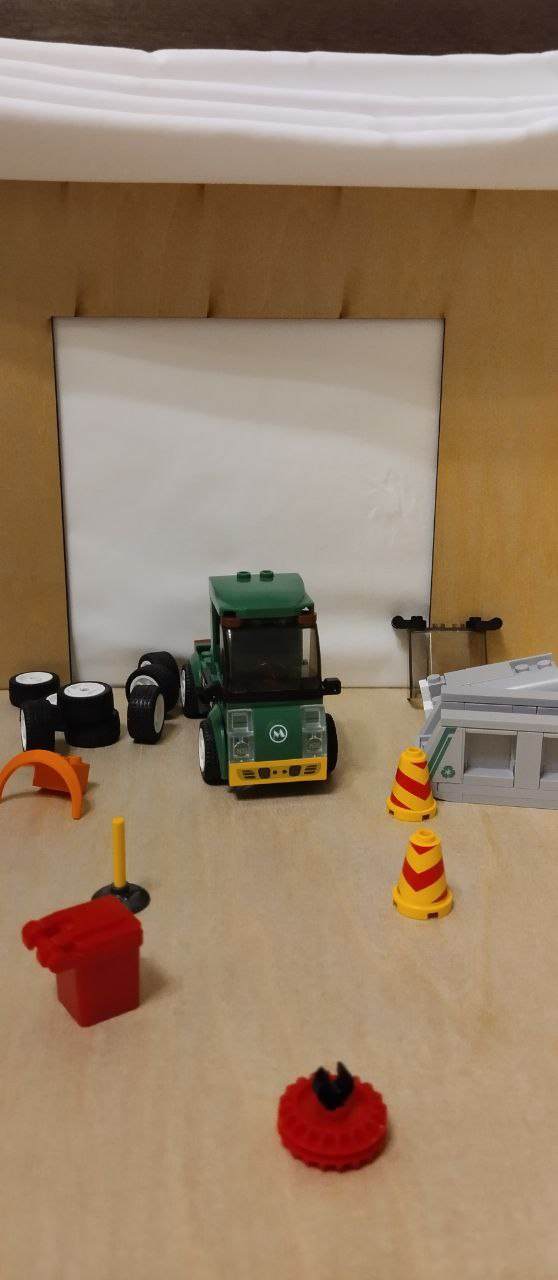Cone: (390, 826, 459, 928), (382, 746, 448, 823)
Object Red: (15, 880, 155, 1036)
Truck: (167, 558, 356, 795)
